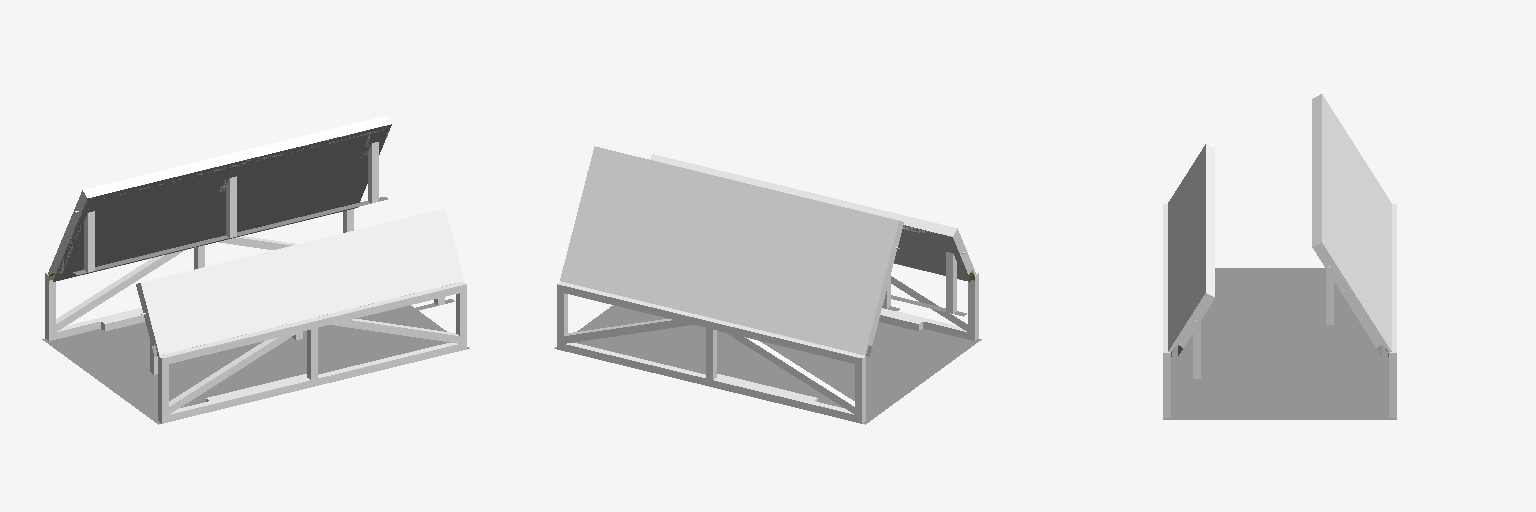
File: anhaenger_bettgestell_aufgeklappt.obj
3 views of the same model, side by side, from view 1: azimuth 30°, elevation 25°; view 2: azimuth 150°, elevation 25°; view 3: azimuth 270°, elevation 25° (orthographic).
Visible parts, largest first — view 1: top_3_3_237, ground_1_1_180, ground_1, back_6_6_68, back_12_12_74, front_37_37_216, top_9_9_71, ground_1_1_124, top_3_3_65, back_42_42_104, front_37_37_99, back_36_36_37 (+4 smaller); view 2: top_3_3_182, ground_1, ground_1_1_235, back_6_6_7, back_12_12_13, front_37_37_271, top_9_9_10, top_3_3_4, back_42_42_43, front_37_37_38, front_7_7_241, top_33_33_34; view 3: ground_1, top_3_3_182, top_3_3_237, front_37_37_216, right_23_23_202, front_37_37_271, top_9_9_10, top_9_9_71.
Boxes of the visible parts, x1=… form: top_3_3_237: x1=141, y1=208, x2=463, y2=354; ground_1_1_180: x1=53, y1=124, x2=391, y2=281; ground_1: x1=42, y1=305, x2=469, y2=424; back_6_6_68: x1=162, y1=342, x2=466, y2=423; back_12_12_74: x1=162, y1=284, x2=466, y2=365; front_37_37_216: x1=91, y1=120, x2=384, y2=196; top_9_9_71: x1=159, y1=282, x2=465, y2=357; ground_1_1_124: x1=73, y1=197, x2=387, y2=274; top_3_3_65: x1=170, y1=343, x2=457, y2=414; back_42_42_104: x1=330, y1=318, x2=461, y2=343; front_37_37_99: x1=168, y1=328, x2=297, y2=414; back_36_36_37: x1=56, y1=250, x2=184, y2=331; top_3_3_182: x1=560, y1=146, x2=898, y2=354; ground_1: x1=554, y1=305, x2=981, y2=424; ground_1_1_235: x1=894, y1=225, x2=970, y2=281; back_6_6_7: x1=557, y1=342, x2=861, y2=423; back_12_12_13: x1=557, y1=284, x2=861, y2=365; front_37_37_271: x1=657, y1=158, x2=948, y2=234; top_9_9_10: x1=558, y1=282, x2=864, y2=357; top_3_3_4: x1=566, y1=343, x2=853, y2=414; back_42_42_43: x1=562, y1=317, x2=693, y2=343; front_37_37_38: x1=725, y1=327, x2=855, y2=414; front_7_7_241: x1=652, y1=154, x2=956, y2=230; top_33_33_34: x1=745, y1=337, x2=854, y2=406; ground_1: x1=1163, y1=268, x2=1396, y2=419; top_3_3_182: x1=1322, y1=94, x2=1391, y2=350; top_3_3_237: x1=1168, y1=144, x2=1205, y2=350; front_37_37_216: x1=1312, y1=99, x2=1318, y2=243; right_23_23_202: x1=1312, y1=244, x2=1382, y2=347; front_37_37_271: x1=1209, y1=149, x2=1214, y2=293; top_9_9_10: x1=1390, y1=204, x2=1396, y2=352; top_9_9_71: x1=1163, y1=204, x2=1169, y2=352.
Size of the model in its own units: 225 by 121 by 146.